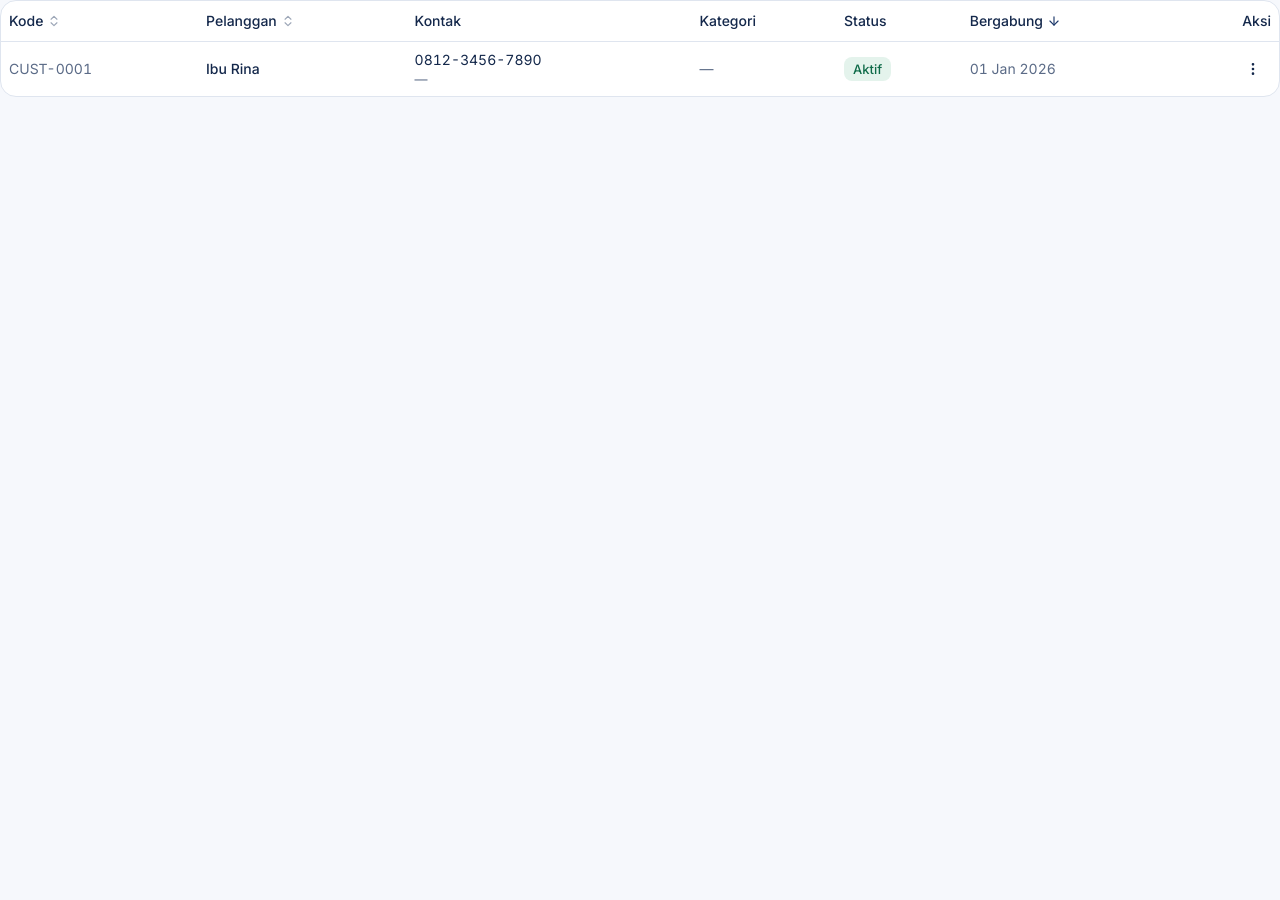
Scenario: deleting a customer that still has pets › shows the reason, not just the headline
Click the button named "Aksi untuk Ibu Rina".
click(1253, 69)  # box [1235,51,1271,87]
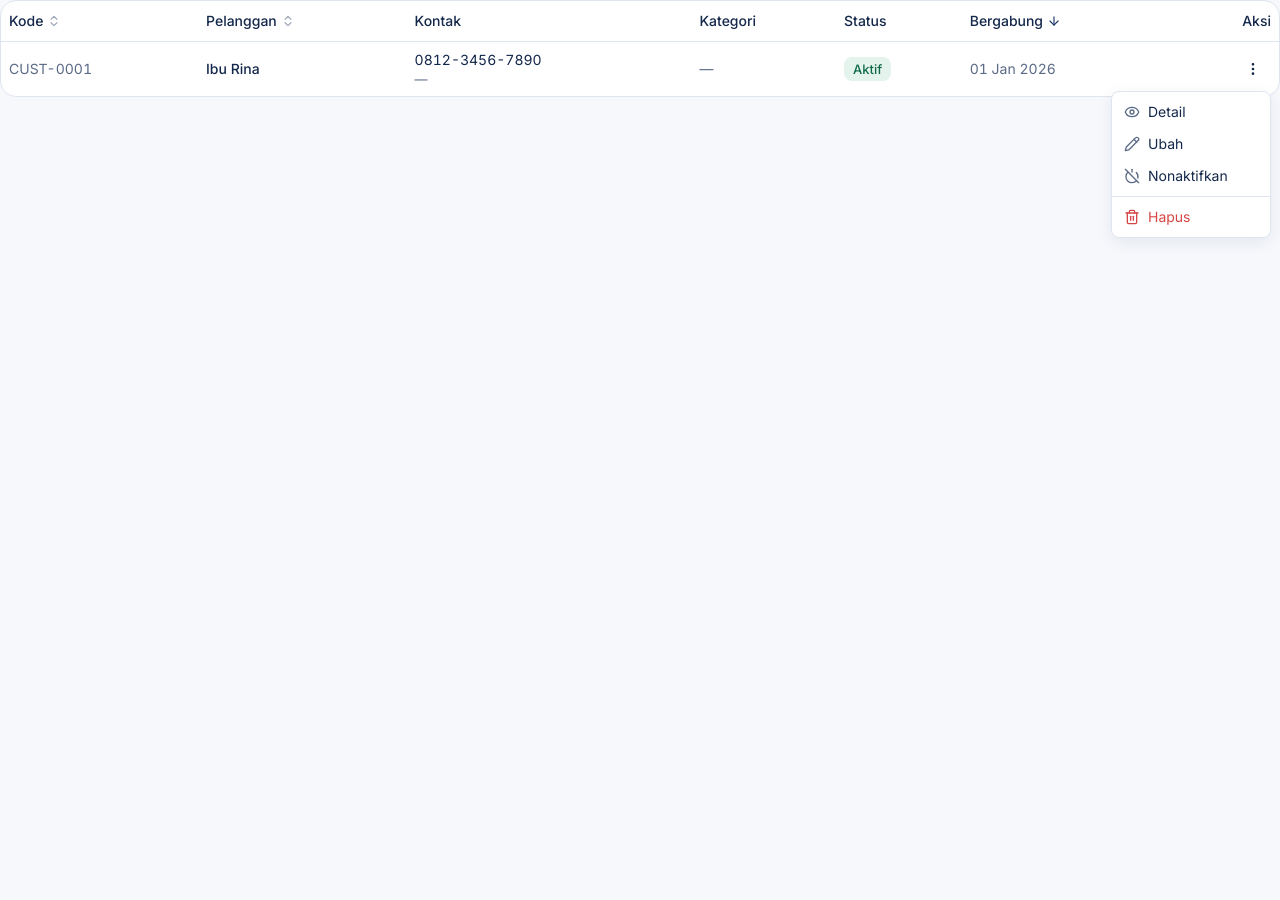
Click the menu item "Hapus".
click(1157, 216)  # box [1124,208,1190,225]
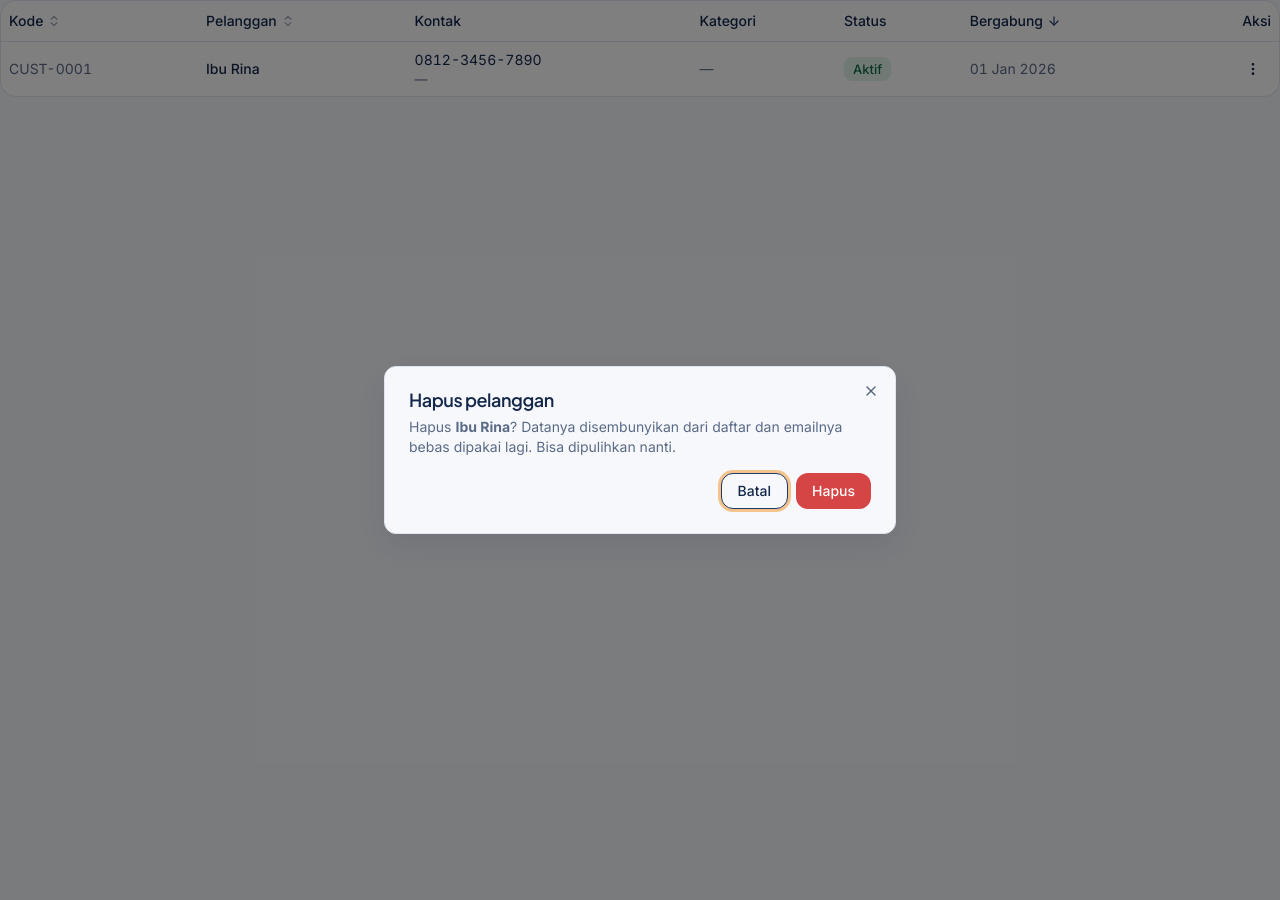
Click the button "Hapus".
click(834, 491)  # box [796,473,871,509]
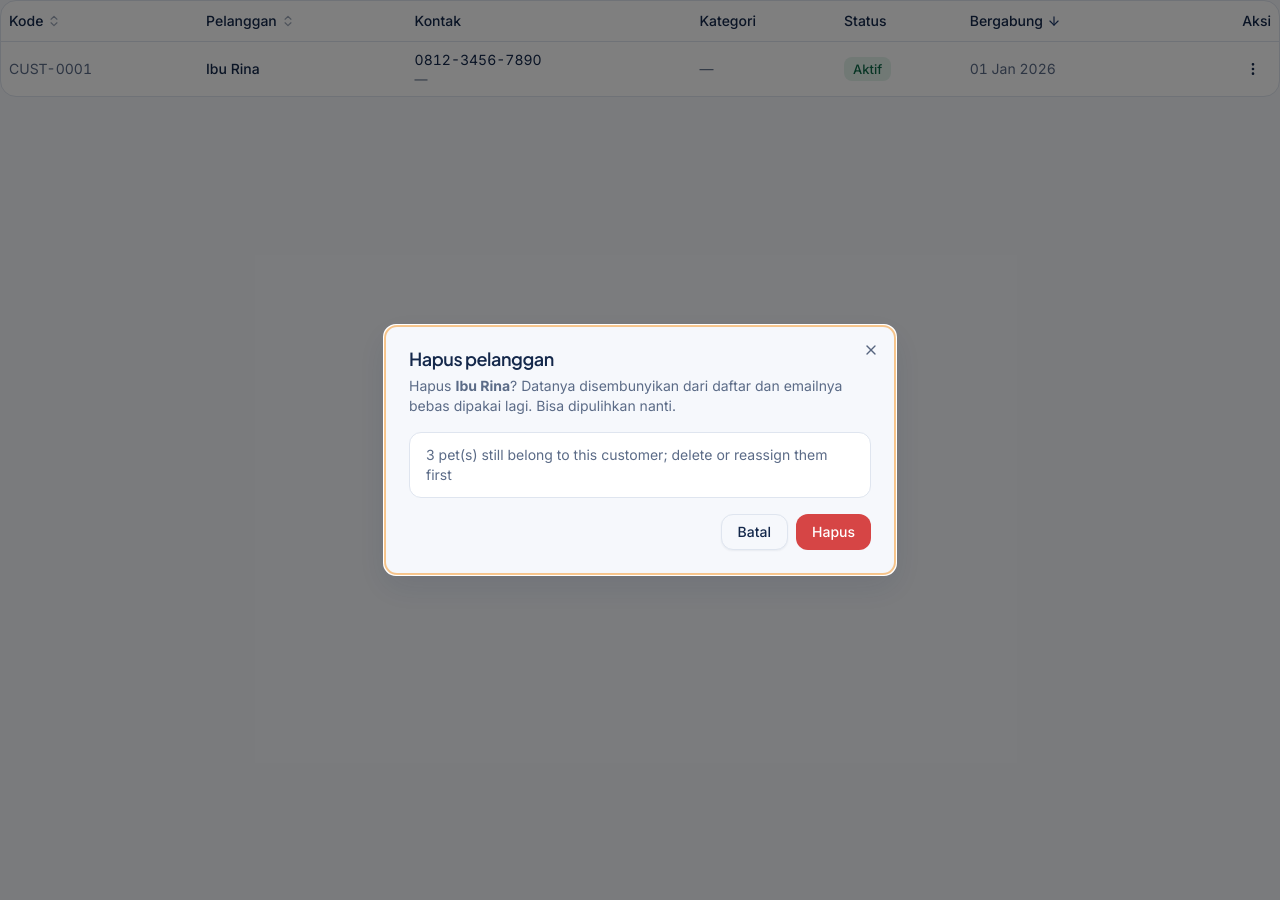
Expected: the text "3 pet(s) still belong" is shown, [426,446,827,483]
